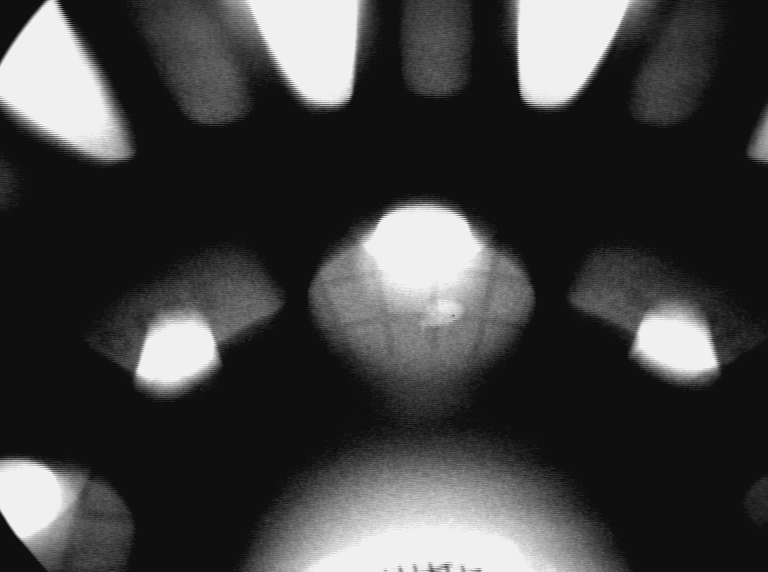defect: (411, 296, 468, 336)
